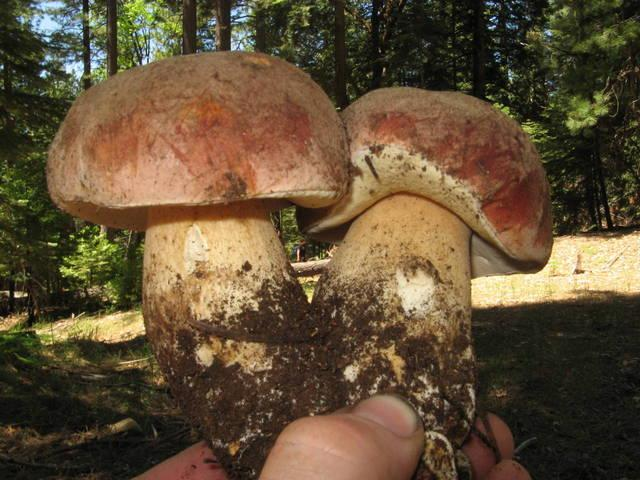edible_mushroom: (44, 48, 351, 478), (298, 84, 554, 479)
